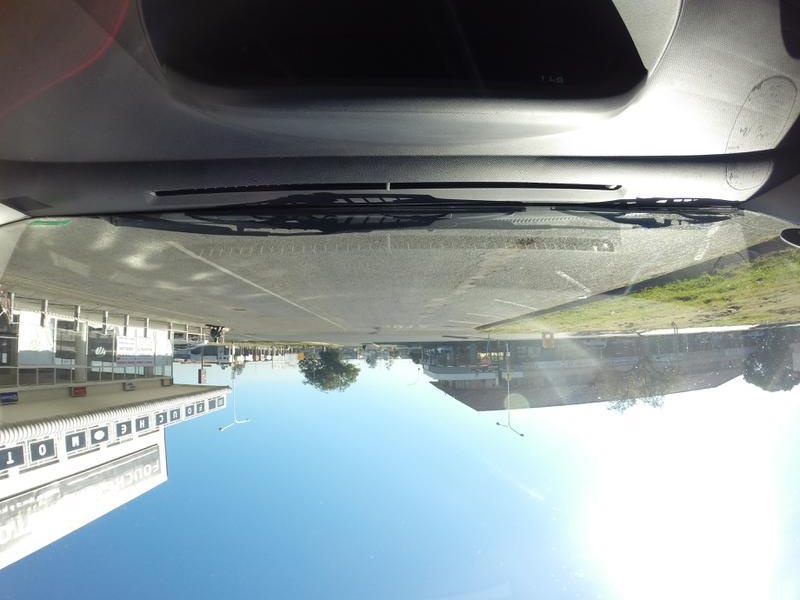pothole: (503, 235, 536, 249), (224, 305, 247, 313), (463, 277, 475, 288), (364, 331, 375, 336), (373, 325, 380, 330)
